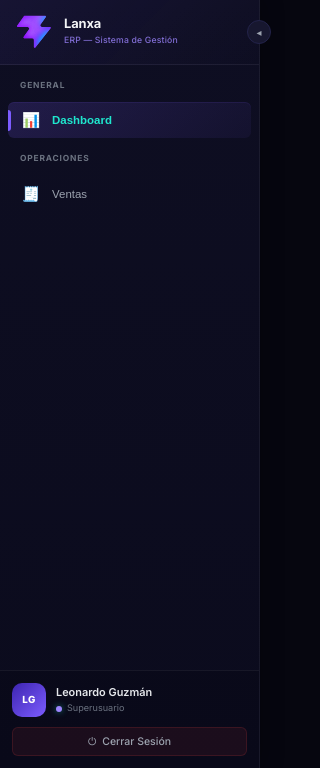
it: Sidebar — gating por rol › el toggle colapsa el menú (oculta labels, conserva navegación)
Expected: the text "Ventas" is shown, [52,188,87,200]
Click the button titled "Colapsar menú" at (259, 32), box [247,20,271,44]
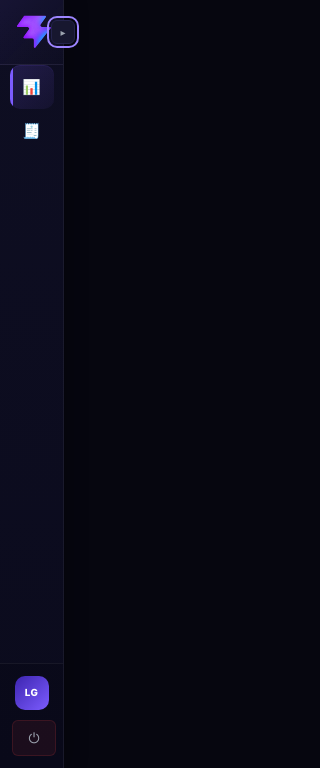
Expected: the button titled "Ventas" is shown, [10,109,54,153]
Expected: the text "Ventas" is gone
